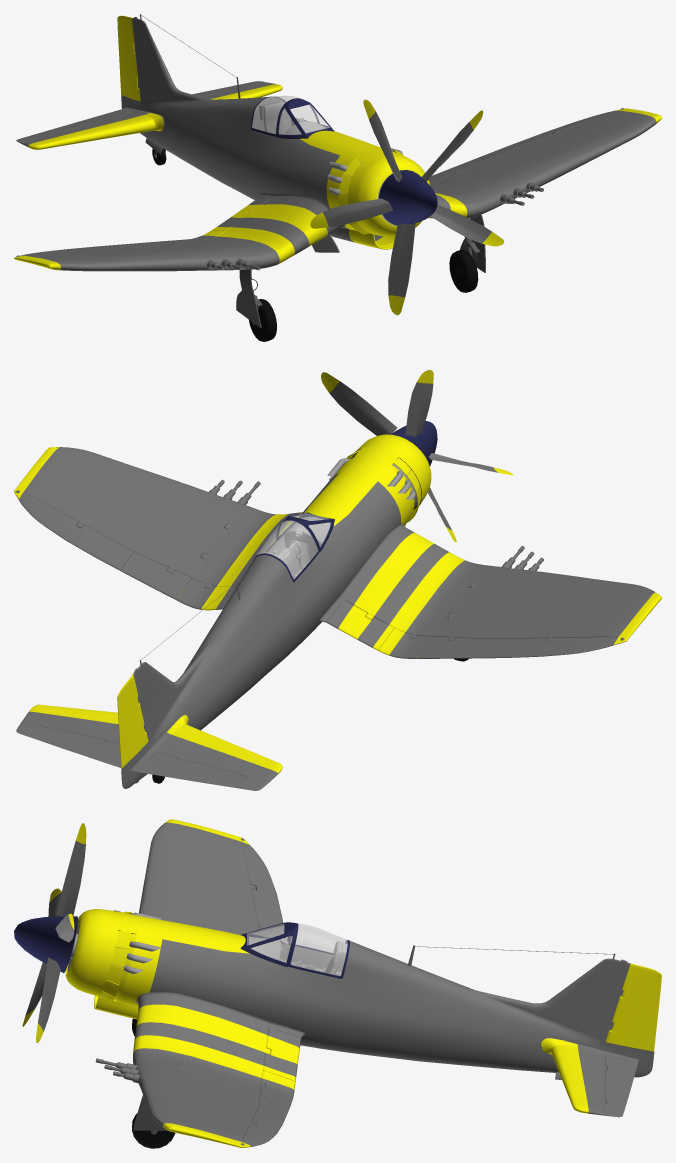
Rendered from stylized_war_plane.glb.
The picture shows the model from 3 angles, top to bottom: view 1: azimuth 30°, elevation 25°; view 2: azimuth 150°, elevation 25°; view 3: azimuth 270°, elevation 25°; orthographic projection. The views are drawn at different scales.
Visible parts, largest first — view 1: body_5, Wings_8, fan_1, Window_6, tires_3, Engine_0, Legs_7, Window_Strip_4, Gun_barrel_2; view 2: Wings_8, body_5, fan_1, Window_6, Engine_0, Window_Strip_4, Gun_barrel_2; view 3: body_5, Wings_8, fan_1, Window_6, Engine_0, Window_Strip_4, tires_3, Legs_7, Gun_barrel_2.
Part boxes in pixels (left/top/right/bottom): body_5: left=16, top=14, right=430, bottom=249; Wings_8: left=14, top=108, right=661, bottom=271; fan_1: left=310, top=99, right=504, bottom=315; Window_6: left=252, top=95, right=330, bottom=134; tires_3: left=152, top=148, right=478, bottom=341; Engine_0: left=252, top=97, right=402, bottom=225; Legs_7: left=153, top=149, right=485, bottom=327; Window_Strip_4: left=250, top=96, right=334, bottom=138; Gun_barrel_2: left=207, top=182, right=543, bottom=270; Wings_8: left=14, top=447, right=661, bottom=658; body_5: left=16, top=434, right=431, bottom=790; fan_1: left=321, top=370, right=513, bottom=542; Window_6: left=255, top=513, right=330, bottom=578; Engine_0: left=264, top=458, right=417, bottom=578; Window_Strip_4: left=254, top=512, right=334, bottom=582; Gun_barrel_2: left=209, top=479, right=543, bottom=570; body_5: left=65, top=909, right=661, bottom=1117; Wings_8: left=133, top=819, right=561, bottom=1147; fan_1: left=14, top=823, right=86, bottom=1042; Window_6: left=247, top=923, right=347, bottom=976; Engine_0: left=67, top=913, right=347, bottom=975; Window_Strip_4: left=240, top=922, right=349, bottom=978; tires_3: left=132, top=1018, right=175, bottom=1148; Legs_7: left=133, top=1095, right=167, bottom=1134; Gun_barrel_2: left=95, top=910, right=140, bottom=1083.
Size of what is drawn, in the model's own units: 33.77 by 13.05 by 29.89.
